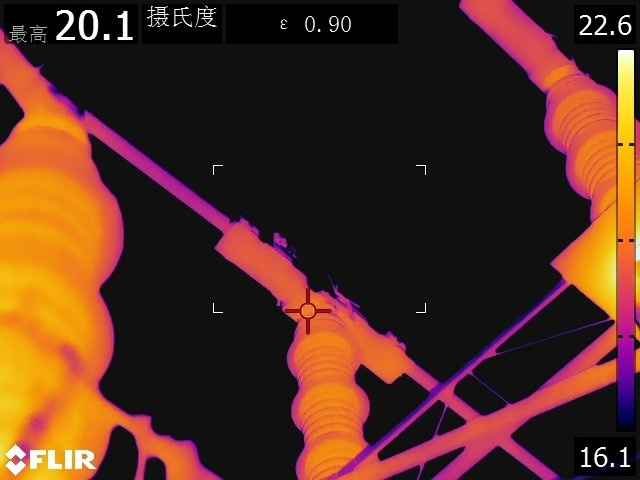post insulator: (1, 136, 139, 432), (285, 303, 386, 480), (533, 69, 640, 211)
